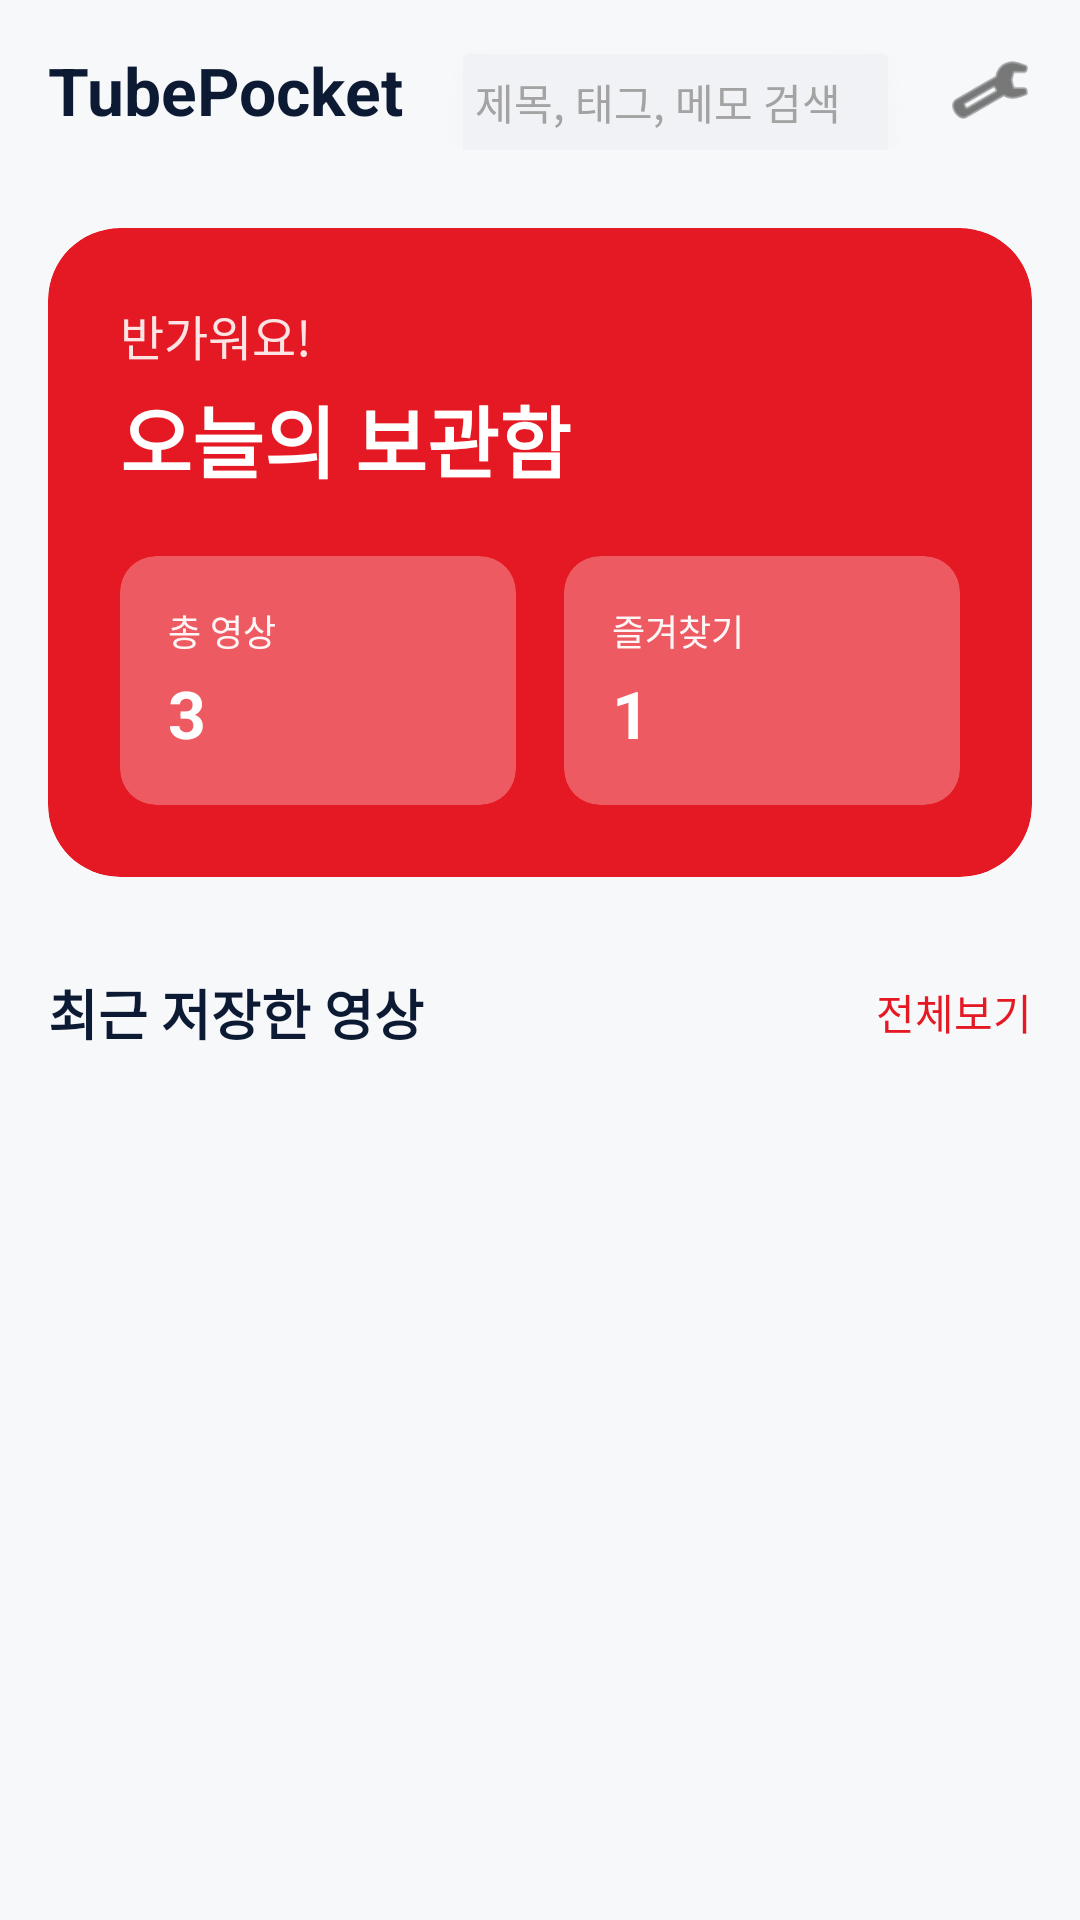

Icons on this 1080×1920 Android screen, each with the point to tap as [x,y]:
manage: [990,90]
